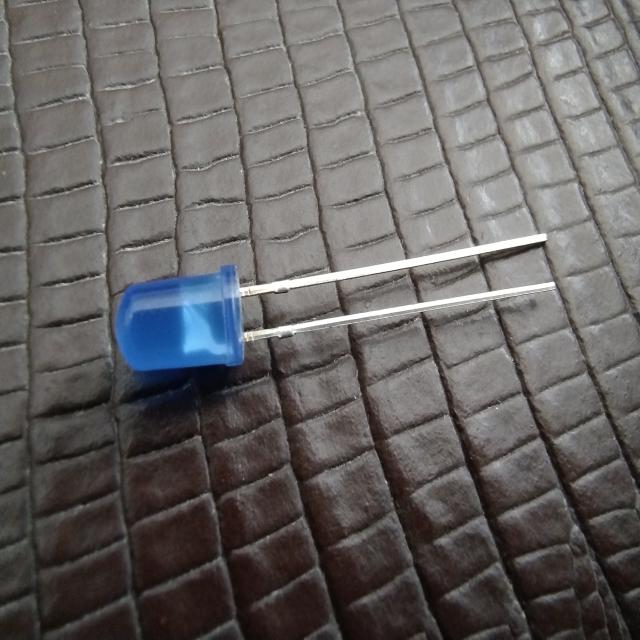blue_led: (113, 263, 244, 373)
